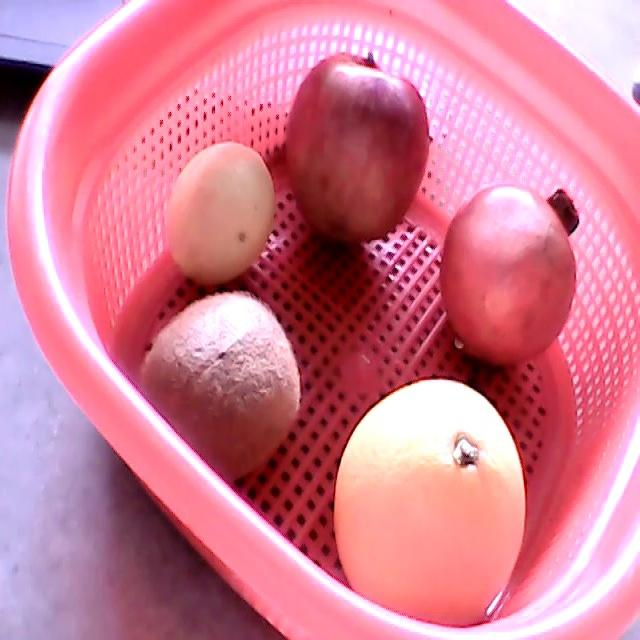apple: (285, 52, 430, 245)
kiwi: (139, 295, 299, 486)
lemon: (166, 143, 276, 286)
orange: (333, 379, 526, 625)
pomegranate: (438, 184, 580, 367)
